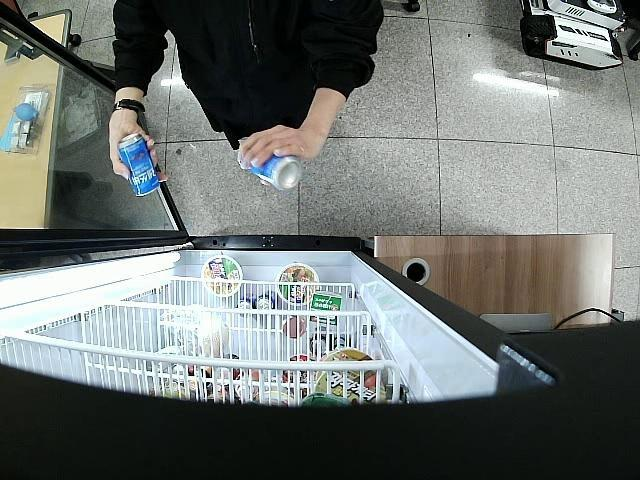15_letsbe: (118, 132, 158, 197), (236, 151, 302, 188)
